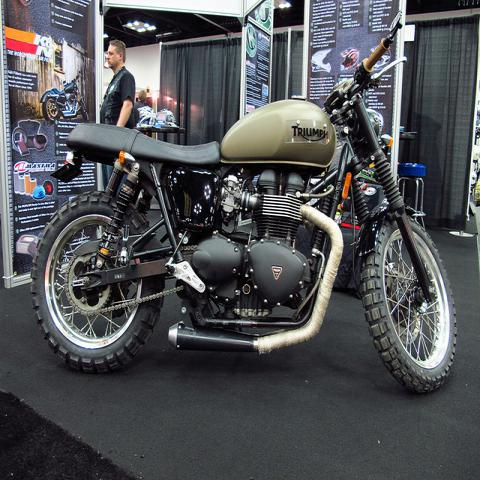motorcycle: (32, 15, 456, 399)
